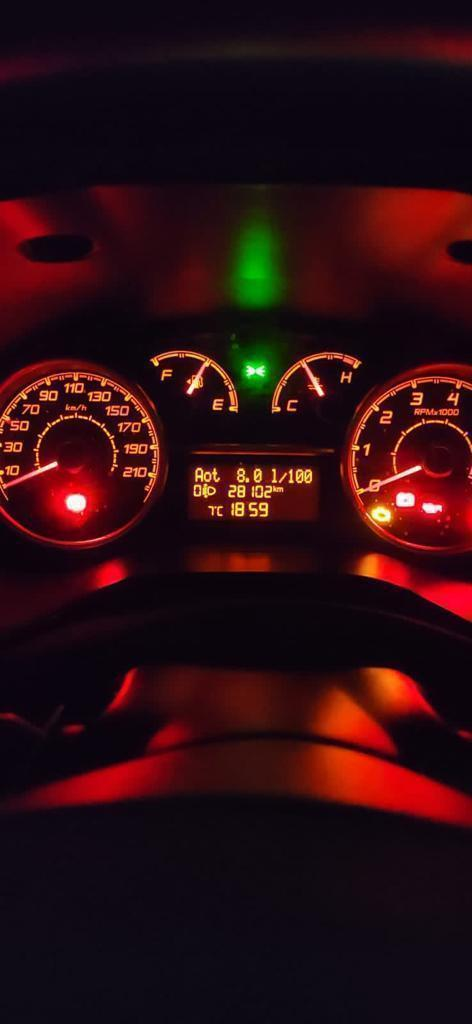,: (245, 476, 251, 483)
0: (252, 467, 262, 482), (304, 467, 312, 484), (295, 468, 303, 485), (255, 484, 263, 498), (193, 484, 201, 497)
1: (288, 467, 295, 485), (230, 501, 234, 516), (250, 484, 254, 498)
2: (228, 484, 236, 497), (264, 484, 271, 498)
5: (248, 501, 257, 518)
7: (208, 505, 214, 516)
8: (235, 501, 244, 517), (236, 466, 244, 483), (236, 484, 245, 498)
9: (259, 500, 268, 517)
X: (211, 466, 221, 483), (194, 466, 203, 482), (278, 472, 288, 483), (270, 467, 276, 484), (203, 470, 211, 482), (216, 504, 223, 517), (272, 484, 277, 493), (277, 486, 283, 493)
odometer: (186, 461, 321, 521)
